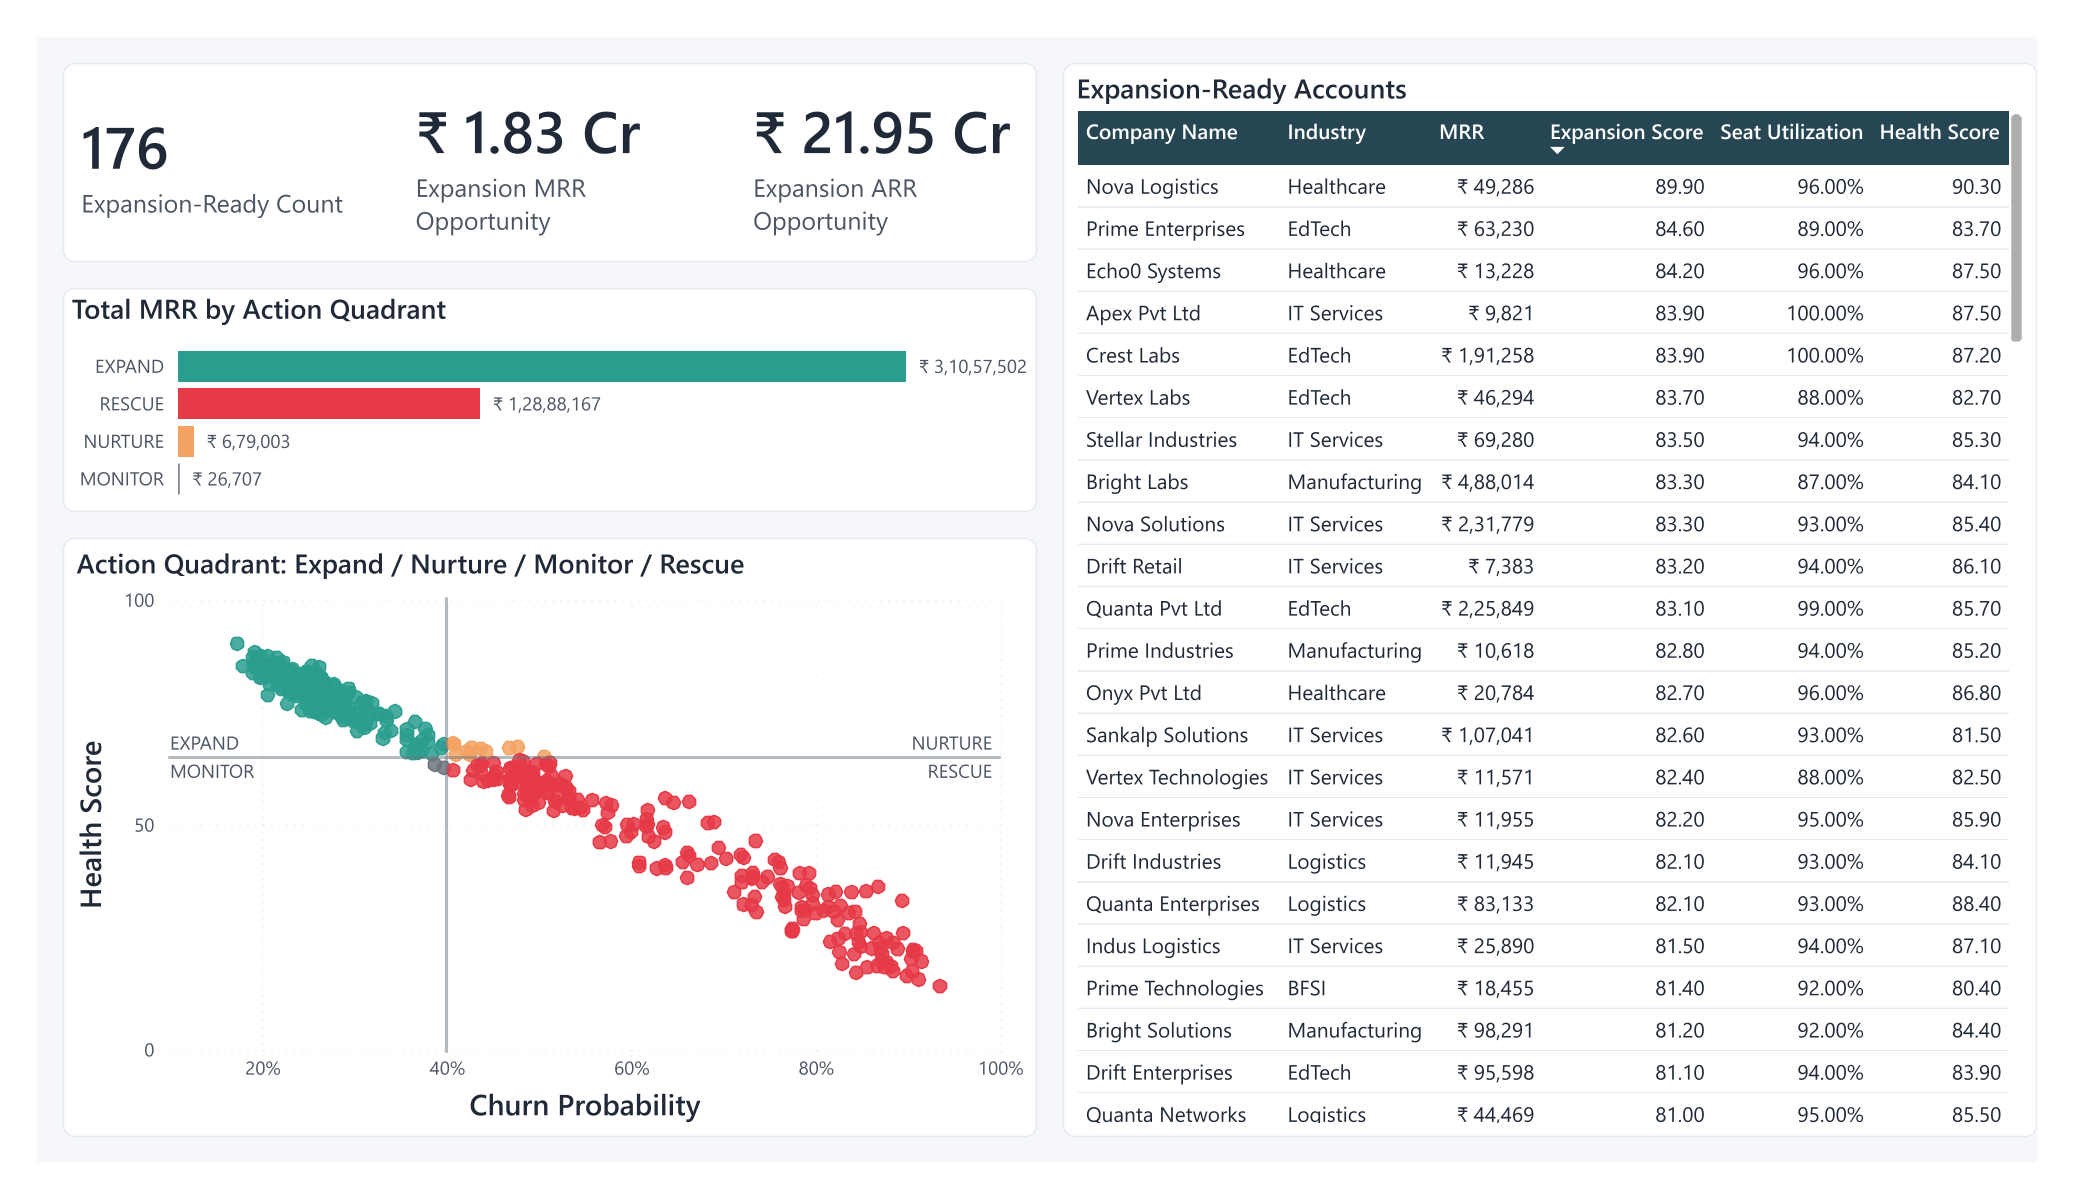

This screenshot's page, from the dashboard's own definition file:
{"tool":"powerbi","page":{"name":"Expansion Opportunities","canvas":[1280,720],"ordinal":3},"visuals":[{"type":"cardVisual","fields":{"Data":["_Measures.Expansion-Ready Count","_Measures.Expansion MRR Opportunity (Cr)","_Measures.Expansion ARR Opportunity (Cr)1"]},"box":[16,16,624,128],"z":0},{"type":"scatterChart","title":"Action Quadrant: Expand / Nurture / Monitor / Rescue","fields":{"Category":["features_final.company_id"],"X":["Avg(features_final.churn_probability)"],"Y":["Avg(features_final.health_score)"],"Series":["features_final.action_quadrant"]},"box":[16,320,624,384],"z":1000},{"type":"barChart","title":"Total MRR by Action Quadrant","fields":{"Category":["features_final.action_quadrant"],"Y":["_Measures.Total MRR"]},"box":[16,160,624,144],"z":2000},{"type":"tableEx","title":"Expansion-Ready Accounts","fields":{"Values":["features_final.company_name","features_final.industry","features_final.mrr","features_final.expansion_score","features_final.seat_utilization","features_final.health_score"]},"box":[656,16,624,688],"z":3000}]}

Visuals, with their boxes on the page's 1280x720 design canvas (x1, y1, x2, y2). These are canvas units, not pixel positions in the 2075x1200 screenshot, which may show the page scaled, cropped or inside an application window:
cardVisual - _Measures.Expansion-Ready Count x _Measures.Expansion MRR Opportunity (Cr): Rect(16, 16, 640, 144)
"Action Quadrant: Expand / Nurture / Monitor / Rescue" scatterChart: Rect(16, 320, 640, 704)
"Total MRR by Action Quadrant" barChart: Rect(16, 160, 640, 304)
"Expansion-Ready Accounts" tableEx: Rect(656, 16, 1280, 704)
